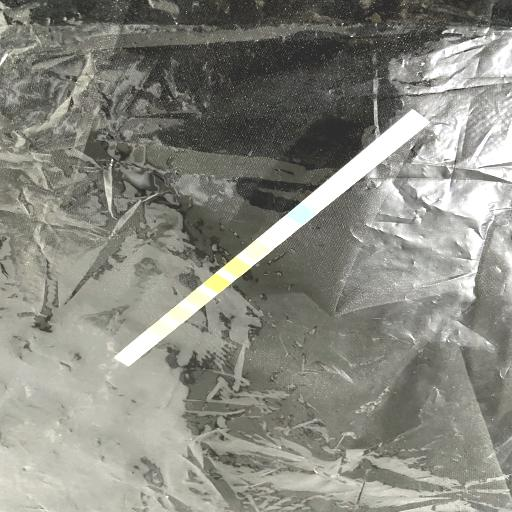Bilirubin: (270, 228, 288, 238)
Blood: (208, 278, 224, 288)
Glucose: (293, 208, 309, 220)
Ketone: (249, 246, 265, 256)
Leukocytes: (119, 353, 133, 361)
Nitrite: (137, 339, 151, 347)
Protein: (172, 310, 187, 318)
SpGravity: (228, 262, 244, 272)
Urobilinogen: (155, 324, 169, 333)
pH: (192, 294, 206, 304)
strip: (112, 110, 430, 367)
